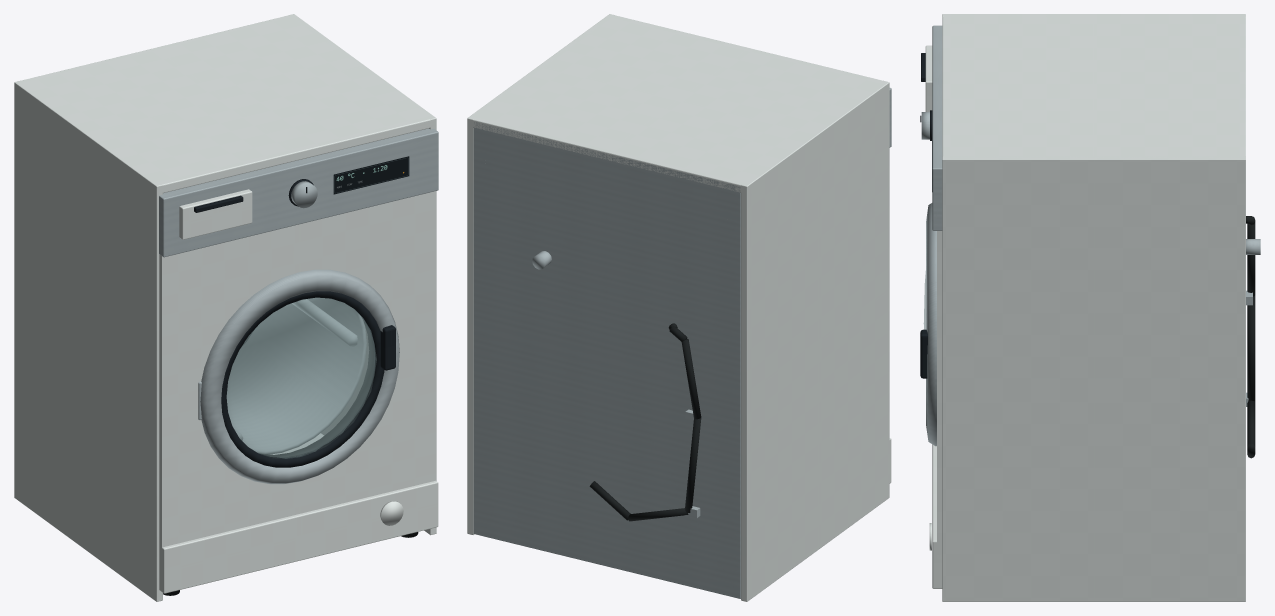
Rendered from washer-dryer.glb.
3 views of the same model, side by side, from view 1: azimuth 30°, elevation 25°; view 2: azimuth 150°, elevation 25°; view 3: azimuth 270°, elevation 25° (orthographic). The views are drawn at different scales.
Visible parts, largest first — view 1: Left folded cabinet panel, Circular-aperture front facade, Folded top lid, Finite convex door glass, Finite stainless drum cylinder, Upper control fascia, Lower service plinth, Profiled polished door rim, Inner glazing retaining lip, Detergent drawer face, Generic laundry programme display, Seated black door bellows (+4 smaller); view 2: Rear service enclosure, Left folded cabinet panel, Folded top lid, Right folded cabinet panel, Rear retained drain hose.002, Rear retained drain hose.001; view 3: Right folded cabinet panel, Folded top lid, Profiled polished door rim, Upper control fascia, Circular-aperture front facade, Lower service plinth, Left folded cabinet panel, Rear retained drain hose.002, Detergent drawer face, Rear retained drain hose.001.
Part boxes in pixels (x1,y1,x2,y2): Left folded cabinet panel: [14, 81, 162, 601]; Circular-aperture front facade: [159, 191, 436, 561]; Folded top lid: [17, 14, 434, 193]; Finite convex door glass: [226, 297, 376, 458]; Finite stainless drum cylinder: [227, 298, 366, 454]; Upper control fascia: [159, 128, 438, 257]; Lower service plinth: [159, 480, 438, 593]; Profiled polished door rim: [200, 269, 399, 484]; Inner glazing retaining lip: [221, 291, 384, 467]; Detergent drawer face: [179, 189, 252, 239]; Generic laundry programme display: [333, 156, 409, 194]; Seated black door bellows: [264, 320, 373, 457]; Rear service enclosure: [473, 122, 740, 598]; Left folded cabinet panel: [741, 80, 889, 601]; Folded top lid: [468, 15, 886, 193]; Right folded cabinet panel: [467, 14, 614, 534]; Rear retained drain hose.002: [685, 418, 701, 512]; Rear retained drain hose.001: [681, 338, 701, 419]; Right folded cabinet panel: [942, 156, 1245, 601]; Folded top lid: [942, 14, 1245, 158]; Profiled polished door rim: [926, 203, 936, 446]; Upper control fascia: [932, 25, 942, 230]; Circular-aperture front facade: [937, 231, 942, 559]; Lower service plinth: [932, 444, 942, 588]; Left folded cabinet panel: [942, 14, 1245, 16]; Rear retained drain hose.002: [1247, 295, 1255, 401]; Detergent drawer face: [925, 45, 932, 111]; Rear retained drain hose.001: [1247, 222, 1255, 296].
Size of the model in its own units: 0.598 by 0.848 by 0.59.
6 materials, 6 textured.
